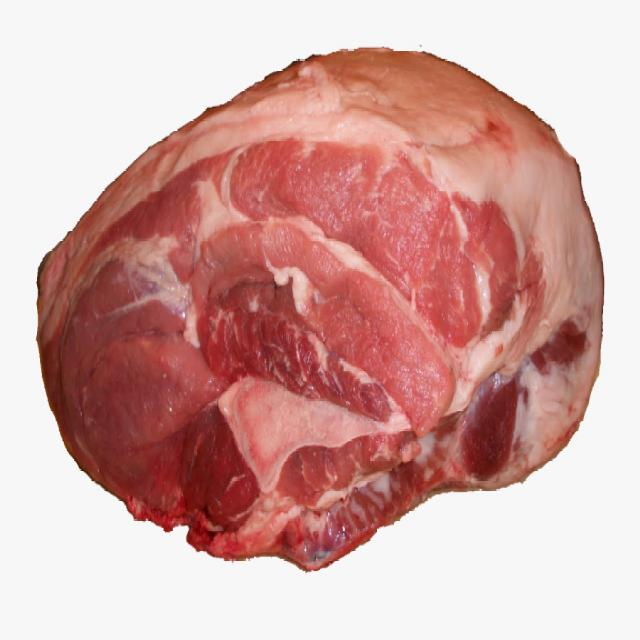pork belly: (37, 50, 604, 570)
